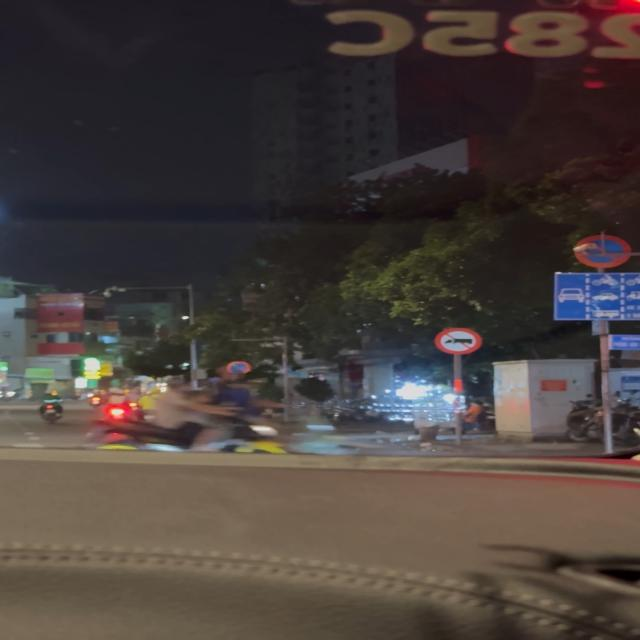Bien bao cam xe so-mi ro-mooc: (429, 326, 486, 356)
